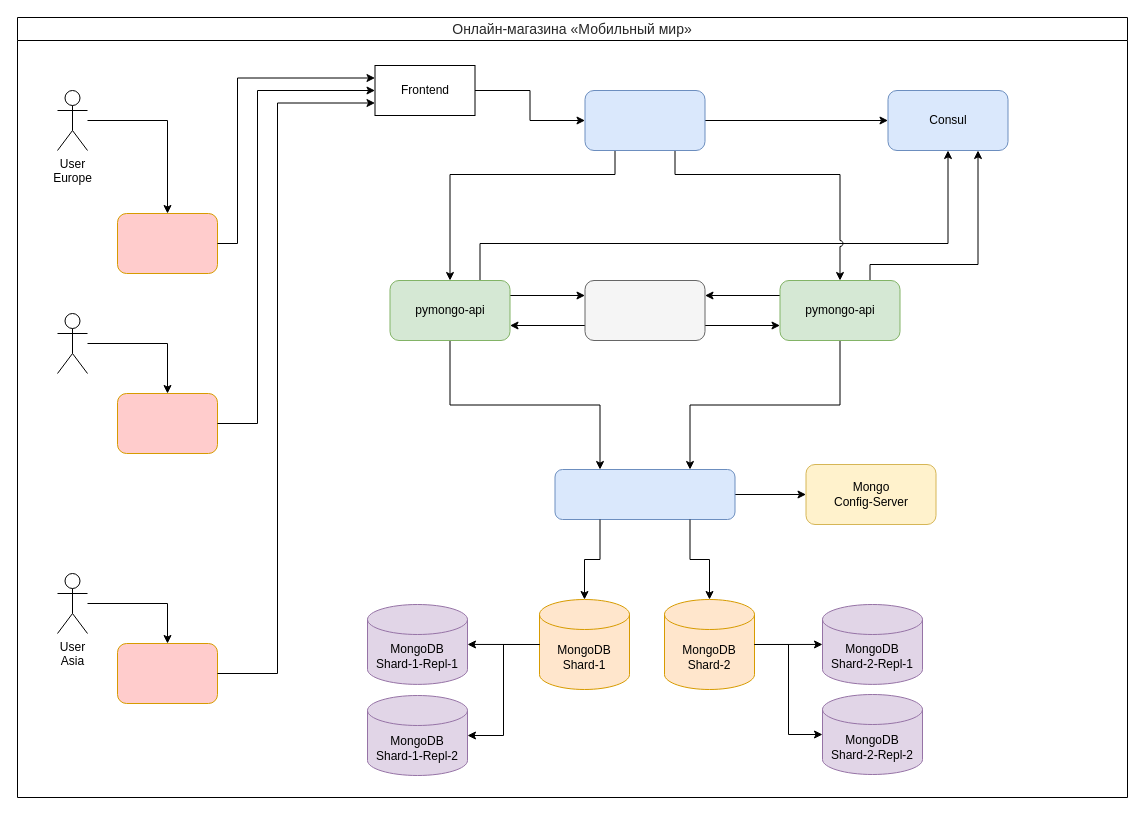
The diagram is 1145 pixels wide and 815 high, and some of its shapes have lost their labels. The shapes that lost their labels are listed below. From the top down, each one's centre as x and y in pixels, then its label:
At point 644,120: "APISIX Gateway".
At point 167,243: "CDN Europe".
At point 644,310: "Radis".
At point 72,343: "User Americas".
At point 167,423: "CDN Americas".
At point 644,494: "Mongo Router".
At point 167,673: "CDN Asia".
